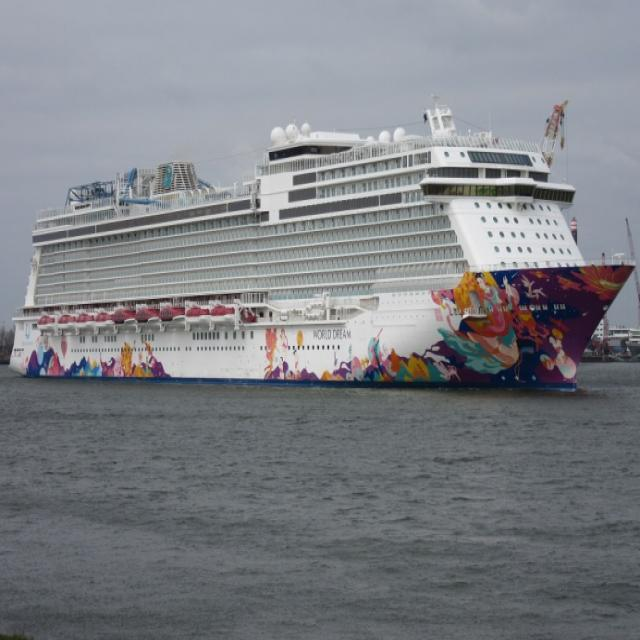cruises: (13, 103, 640, 408)
